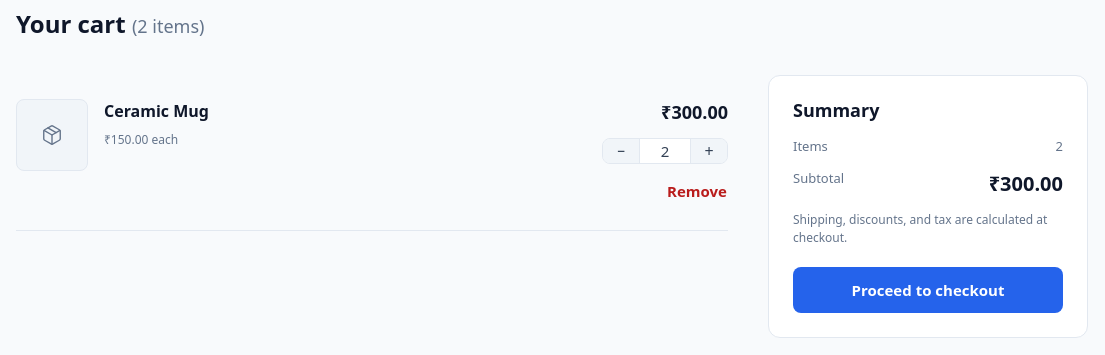
Test case: CartPage › surfaces the server validation error when a quantity update is rejected
This screenshot has width=1105, height=355.
Expected: the text "Ceramic Mug" is shown, [104, 100, 209, 122]
Click the button named "increase".
click(709, 151)  # box [691, 139, 727, 163]
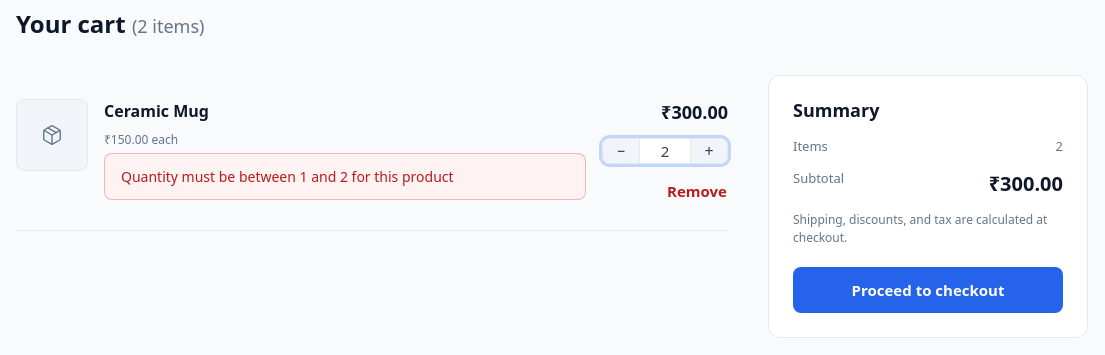
Expected: the number field named "Quantity" holds "2", [639, 139, 691, 163]
Expected: the text "Quantity must be between 1 and 2 for this product" is shown, [104, 153, 586, 200]
